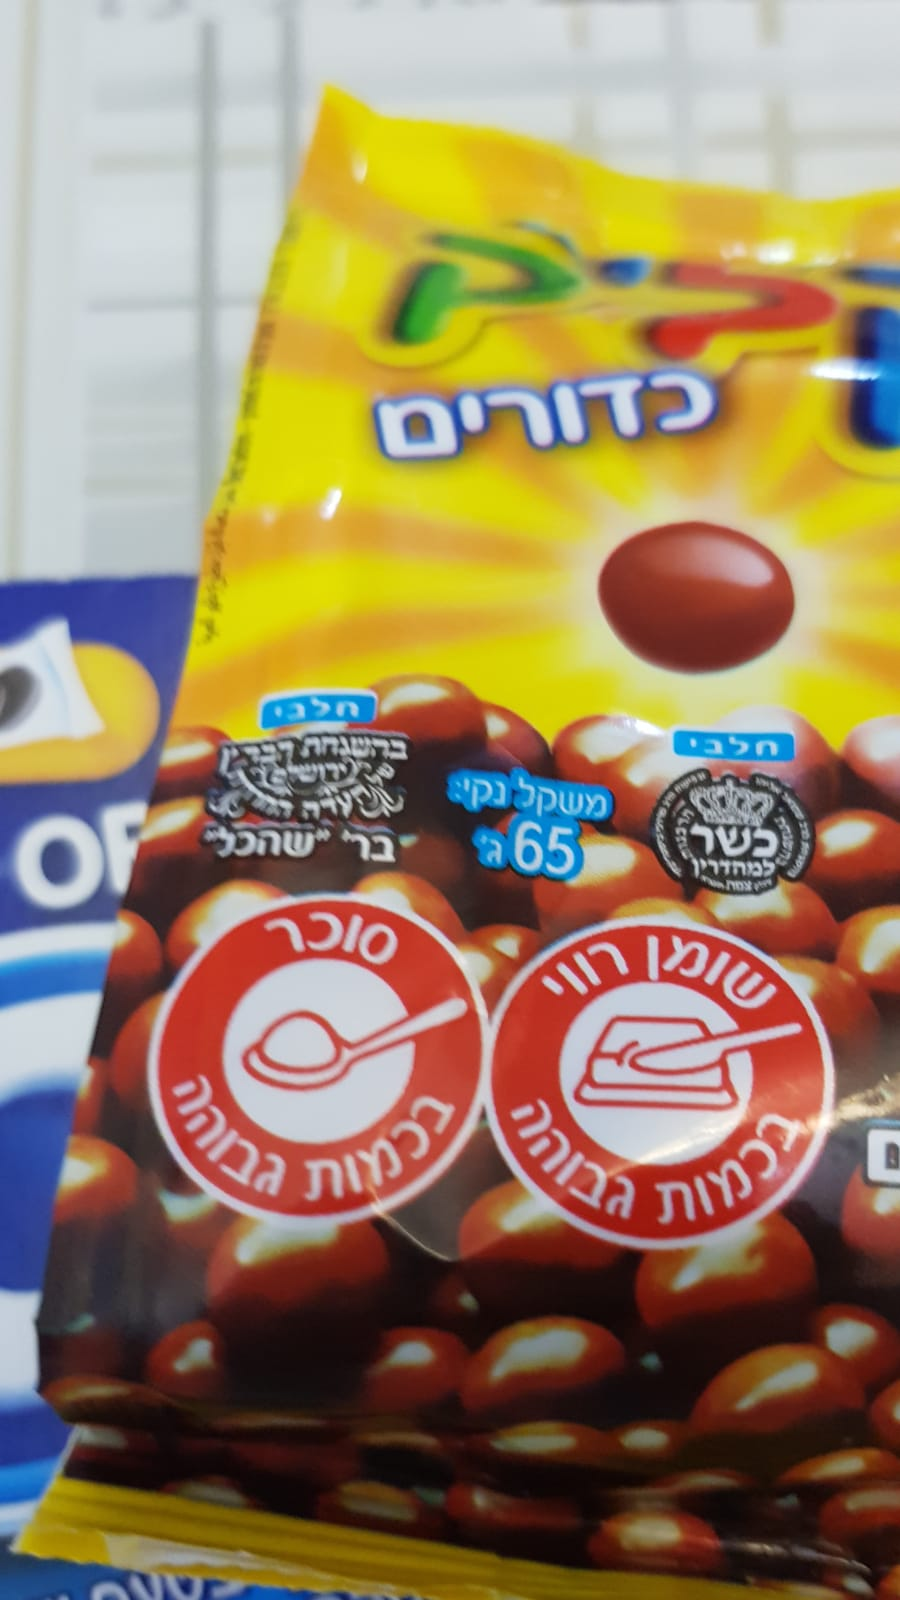fat: (481, 915, 836, 1251)
sugar: (144, 895, 487, 1227)
